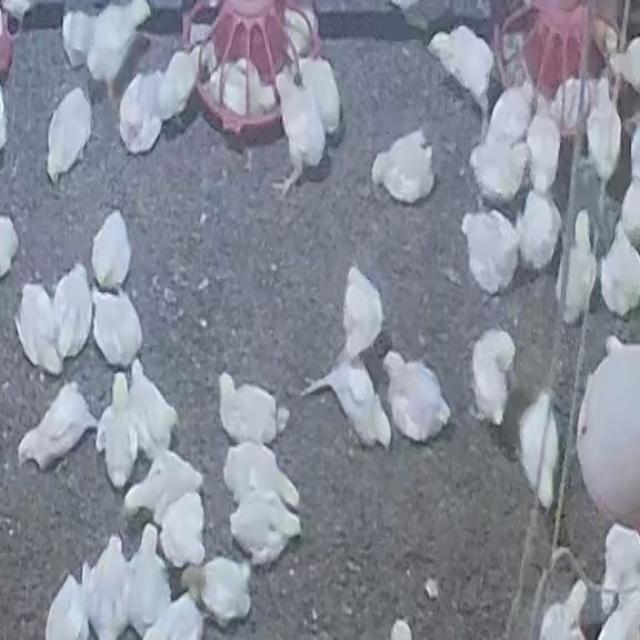chicken: (303, 359, 393, 448), (64, 2, 149, 85), (15, 384, 92, 475), (382, 352, 449, 444), (215, 372, 287, 449), (95, 356, 136, 486), (124, 362, 179, 457), (124, 525, 172, 633), (460, 211, 518, 297), (268, 75, 316, 177), (222, 443, 299, 506), (518, 394, 560, 508), (558, 211, 598, 326), (14, 283, 63, 376), (427, 29, 493, 98), (229, 494, 295, 563), (116, 70, 168, 156), (90, 286, 142, 372), (46, 88, 92, 182), (125, 459, 202, 515), (367, 136, 433, 200), (51, 264, 92, 366), (343, 264, 385, 363), (550, 76, 612, 143), (183, 562, 252, 622), (471, 333, 516, 425), (85, 537, 125, 640), (599, 221, 640, 317), (584, 84, 622, 185), (205, 61, 271, 118), (470, 136, 525, 203), (516, 192, 562, 272), (157, 493, 206, 565), (90, 210, 132, 292), (596, 531, 639, 611), (158, 46, 203, 122), (524, 111, 563, 192), (294, 58, 337, 130), (43, 573, 89, 640), (486, 81, 533, 146), (150, 592, 203, 640), (543, 579, 582, 640), (60, 8, 94, 70), (282, 5, 319, 57)
